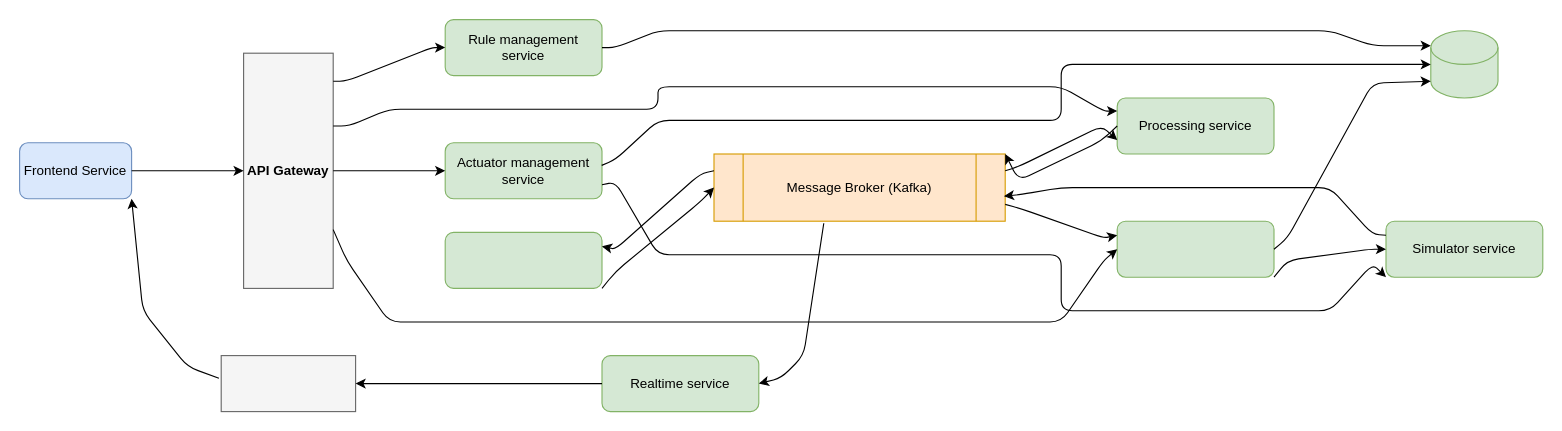
Some shapes in this 1562 by 431 pixel diagram are drawn without their labels. The shapes that lost their labels are listed below. From the top down, each one's box as (x1, y1, x2, y2) in pixels, then its label:
(1430, 30, 1498, 98): Acturator rules DB
(444, 231, 602, 288): Ingestion service
(1116, 220, 1274, 277): Actuator rules service
(220, 354, 356, 412): WebSocket
